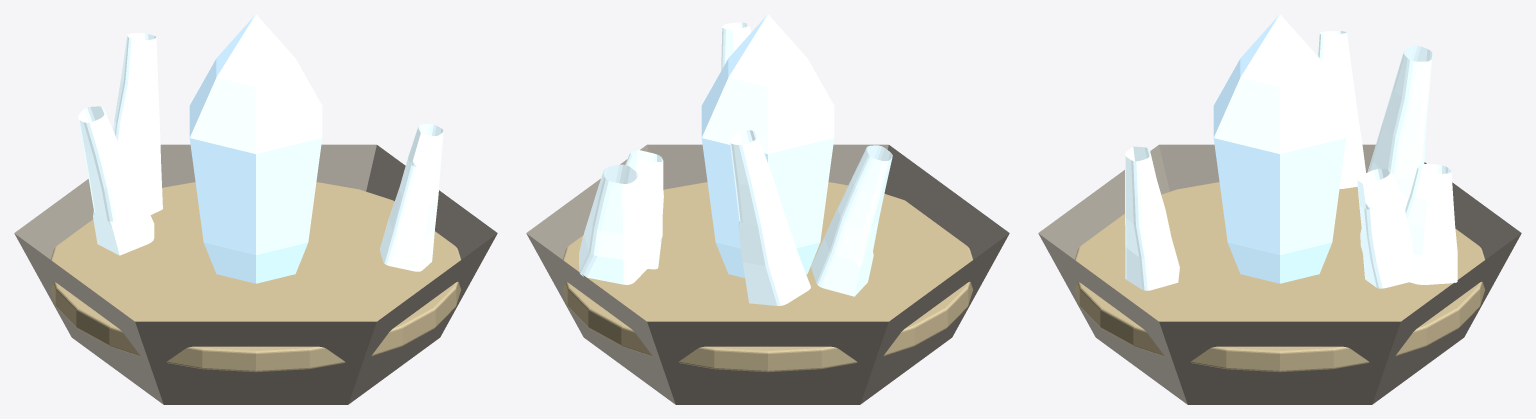
Rendered from 15-Recursos_cristal_ancestral.glb.
3 views of the same model, side by side, from view 1: azimuth 30°, elevation 25°; view 2: azimuth 150°, elevation 25°; view 3: azimuth 270°, elevation 25° (orthographic).
Visible parts, largest first — view 1: SM_Cristal_M_Talla_Cristal, SM_Cristal_M_Pedestal_Cristal, SM_Cristal_M_Cristal_Ancestral_Central, SM_Cristal_M_Cristal_Ancestral_Claro; view 2: SM_Cristal_M_Pedestal_Cristal, SM_Cristal_M_Talla_Cristal, SM_Cristal_M_Cristal_Ancestral_Claro, SM_Cristal_M_Cristal_Ancestral_Central; view 3: SM_Cristal_M_Pedestal_Cristal, SM_Cristal_M_Talla_Cristal, SM_Cristal_M_Cristal_Ancestral_Central, SM_Cristal_M_Cristal_Ancestral_Claro.
Part boxes in pixels (box(x1,y1,x2,y2)): SM_Cristal_M_Talla_Cristal: box(51, 182, 460, 372); SM_Cristal_M_Pedestal_Cristal: box(14, 144, 497, 404); SM_Cristal_M_Cristal_Ancestral_Central: box(189, 14, 322, 283); SM_Cristal_M_Cristal_Ancestral_Claro: box(78, 33, 443, 271); SM_Cristal_M_Pedestal_Cristal: box(526, 144, 1009, 404); SM_Cristal_M_Talla_Cristal: box(563, 182, 972, 372); SM_Cristal_M_Cristal_Ancestral_Claro: box(579, 22, 892, 305); SM_Cristal_M_Cristal_Ancestral_Central: box(701, 14, 834, 277); SM_Cristal_M_Pedestal_Cristal: box(1038, 144, 1521, 404); SM_Cristal_M_Talla_Cristal: box(1075, 182, 1484, 372); SM_Cristal_M_Cristal_Ancestral_Central: box(1213, 14, 1346, 283); SM_Cristal_M_Cristal_Ancestral_Claro: box(1125, 31, 1457, 290).
Size of the model in its own units: 0.7275 by 0.665 by 0.84.
